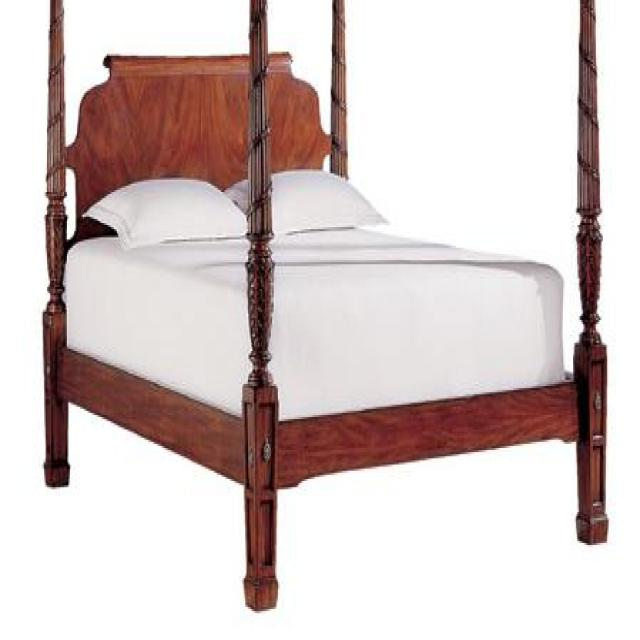bed: (42, 48, 608, 615)
